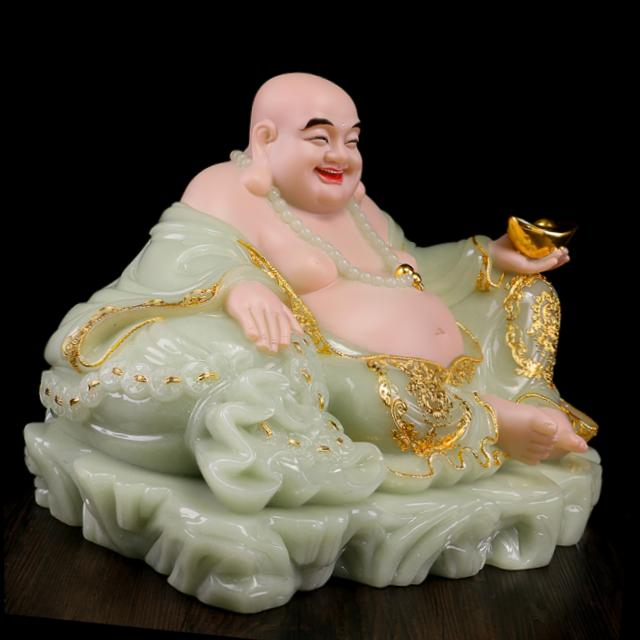Smiling Buddha: (151, 53, 482, 486)
